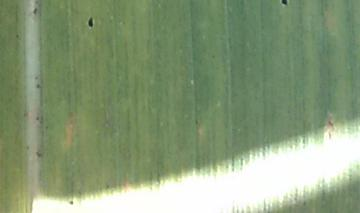tarspot: (85, 14, 96, 29), (276, 1, 293, 7), (68, 198, 76, 206)
